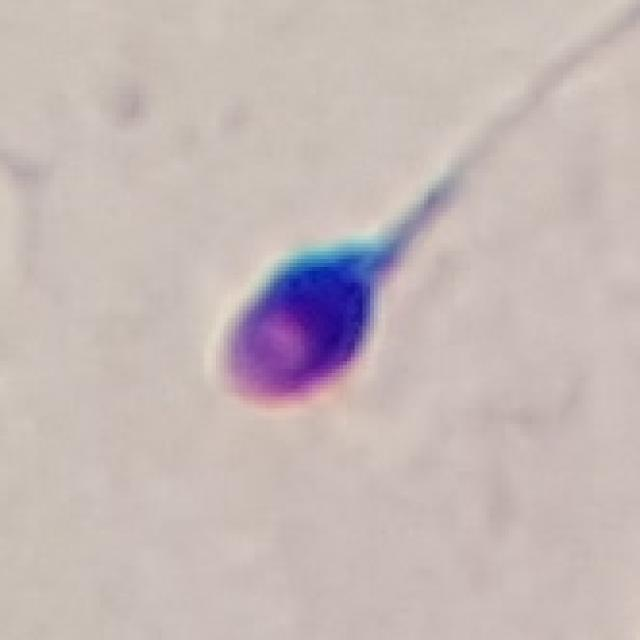normal sperm: (220, 167, 464, 406)
